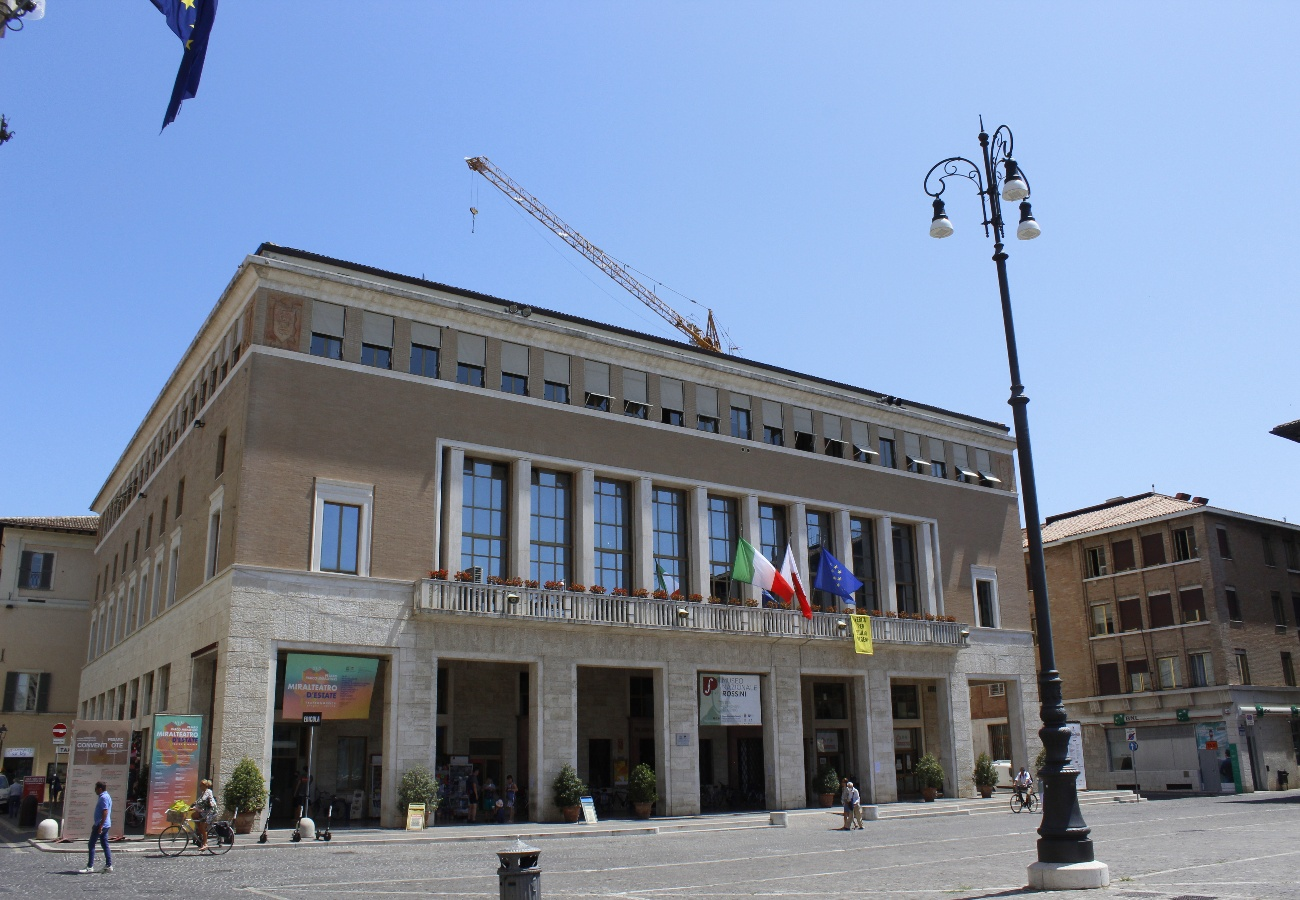Palazzo Comunale: (234, 250, 1030, 836)
